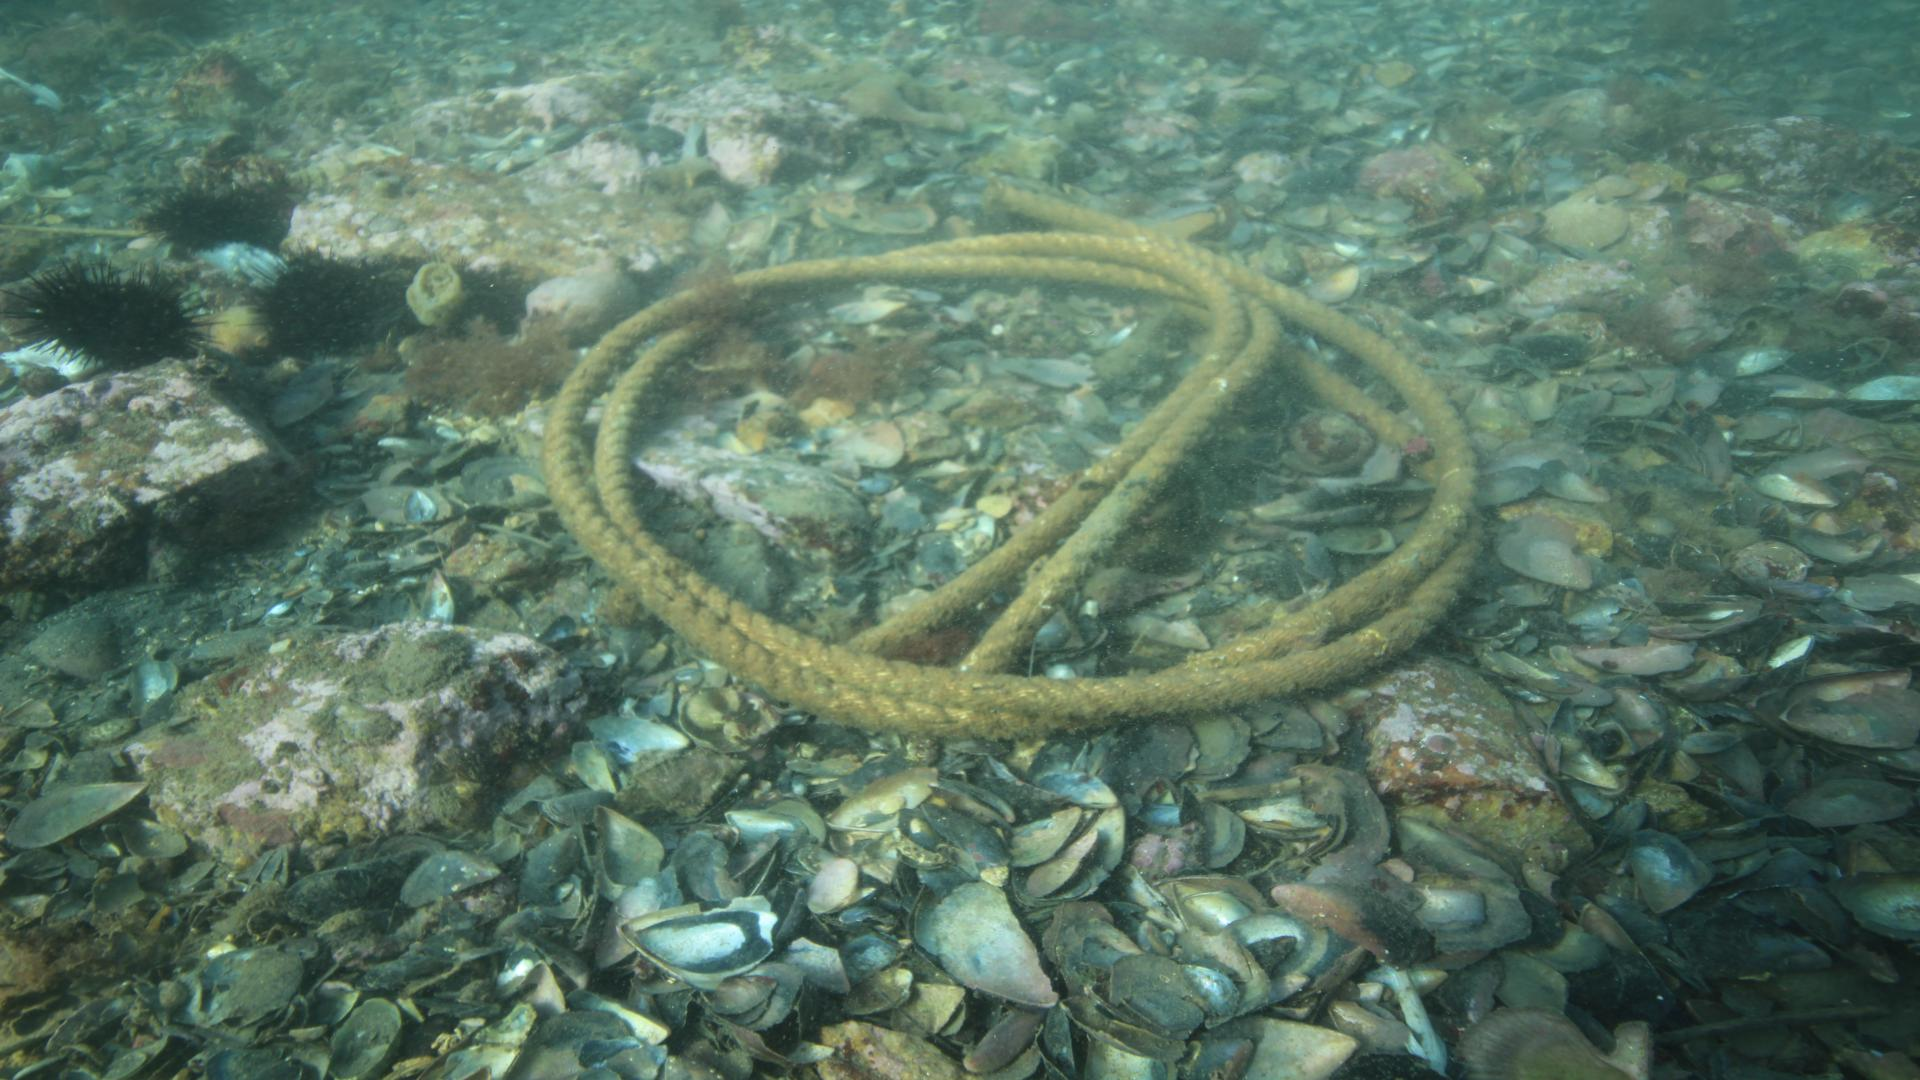bundle of ropes: (535, 181, 1491, 742)
